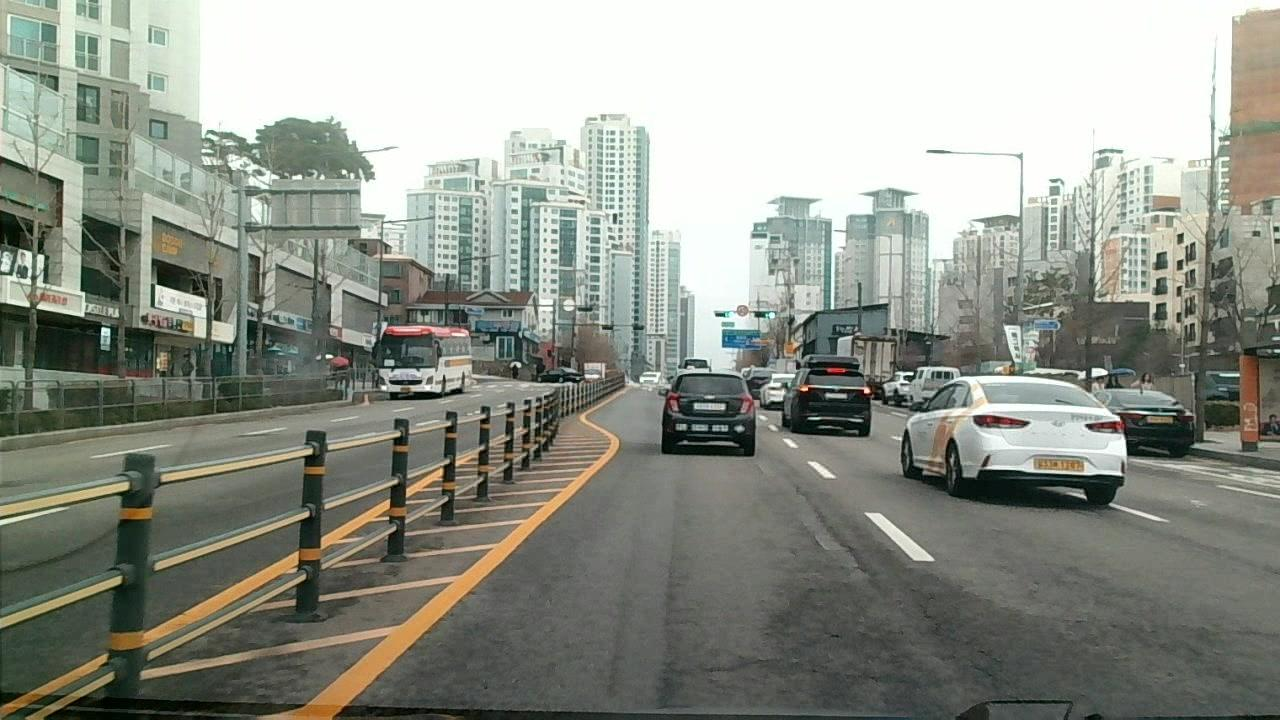hcrack: (694, 653, 861, 682)
vcrack: (901, 582, 1023, 700), (794, 479, 872, 583)
